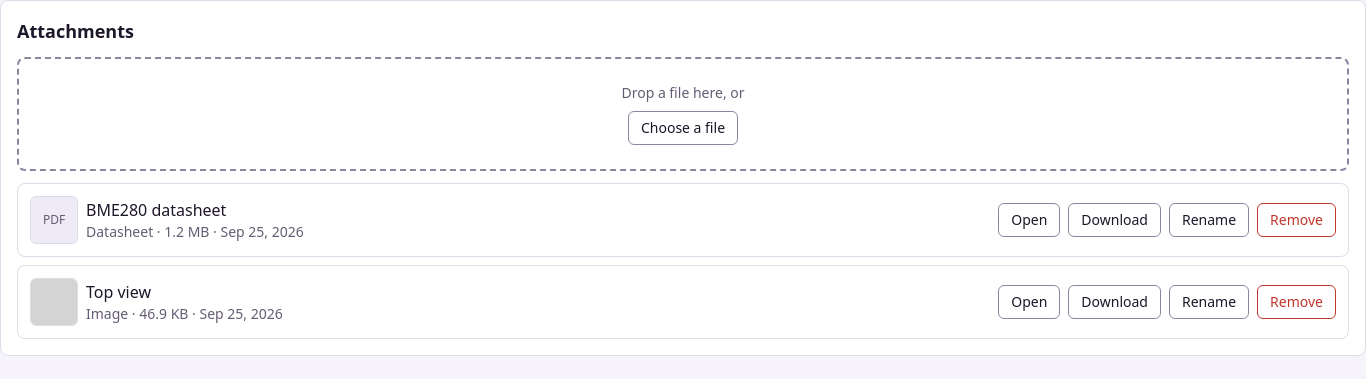
AttachmentsSection › asks before removing an attachment, then drops it from the list
This screenshot has width=1366, height=379.
Step 1. Click the button with aria-label "Remove BME280 datasheet" → (1297, 220), box [1257, 203, 1336, 237]
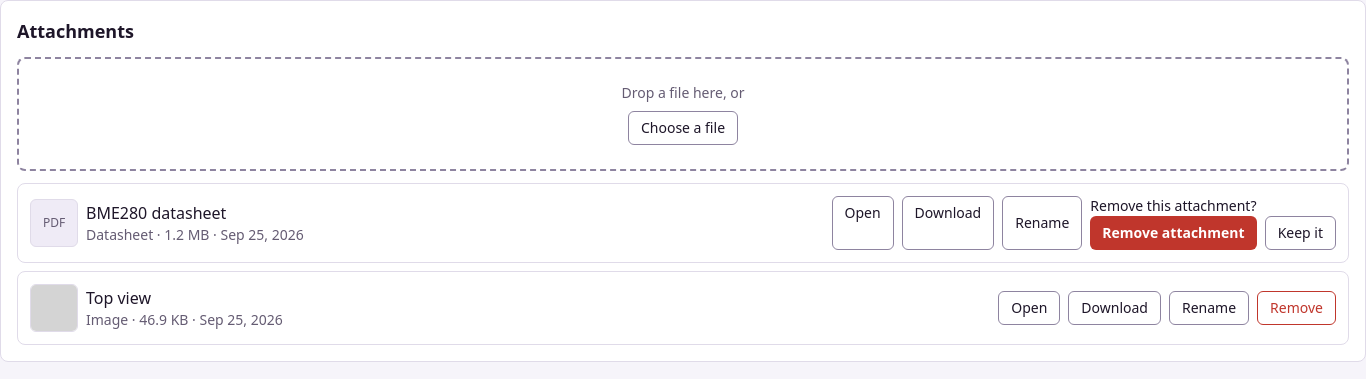
Check: the element "Remove this attachment?" is shown, box [1090, 196, 1336, 250]
Step 2. Click the button "Remove attachment" → (1173, 233), box [1090, 216, 1257, 250]
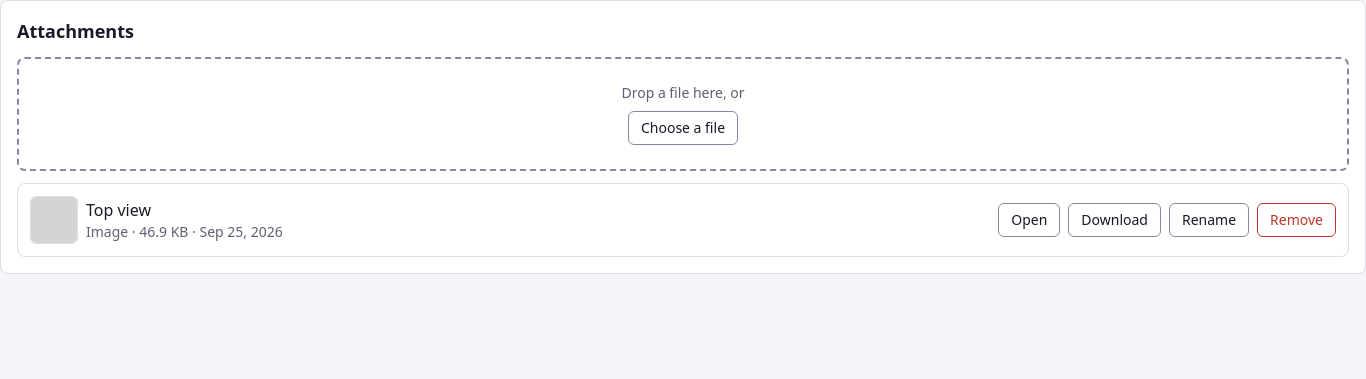
Check: the text "Top view" is shown, box [86, 199, 151, 221]
Check: the text "BME280 datasheet" is gone
